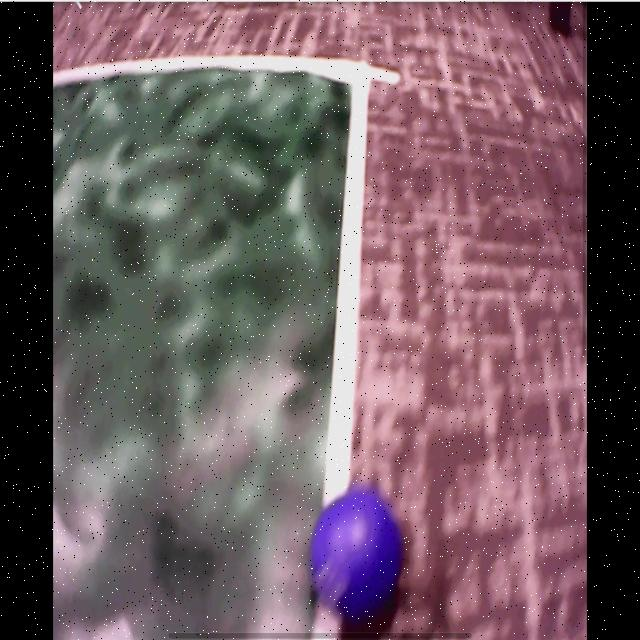ball: (310, 492, 402, 618)
